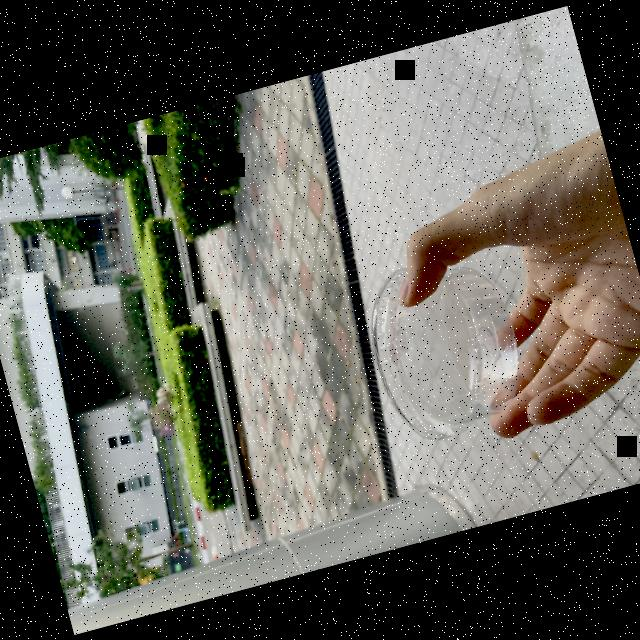plastic_cup_lid: (342, 245, 544, 462)
